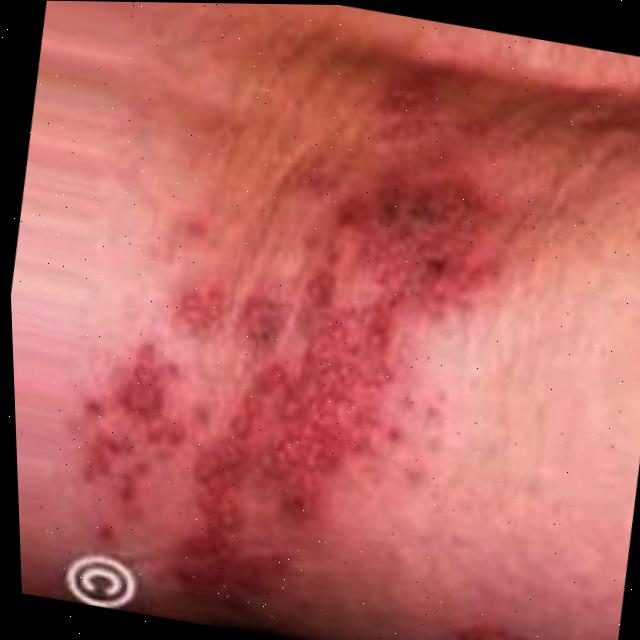Shingles: (79, 85, 565, 592)
